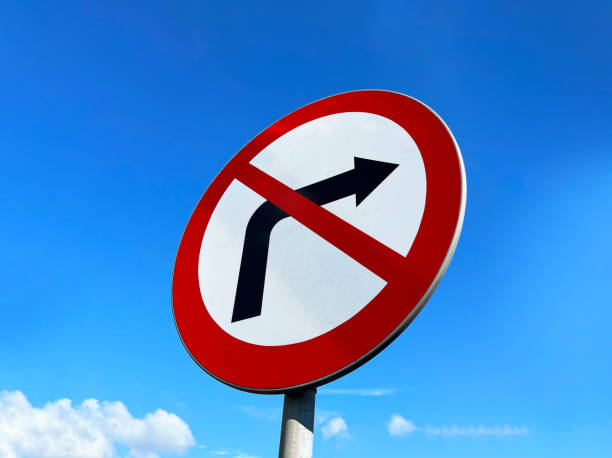saga_donulmez: (167, 90, 466, 387)
